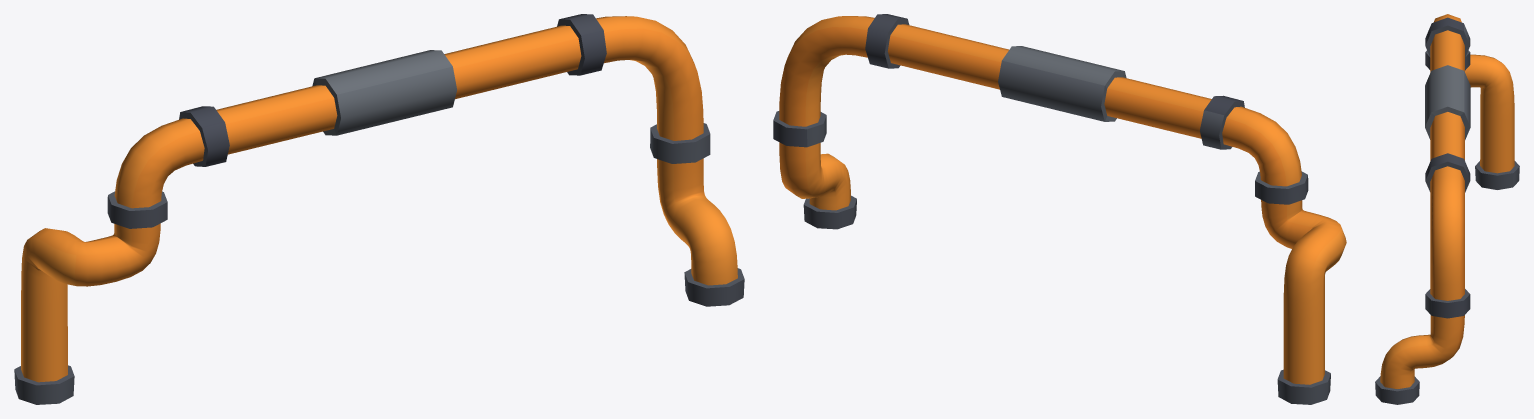
The model's file is SM_Pipe_1.fbx.
3 renders of one model, left to right at view 1: azimuth 30°, elevation 25°; view 2: azimuth 150°, elevation 25°; view 3: azimuth 270°, elevation 25°, orthographic. The views are drawn at different scales.
Parts seen in each view (by area): view 1: SM_Pipe_1; view 2: SM_Pipe_1; view 3: SM_Pipe_1.
Part boxes in pixels (<box>): SM_Pipe_1: <box>14,14,744,404</box>; SM_Pipe_1: <box>773,14,1346,404</box>; SM_Pipe_1: <box>1375,14,1519,404</box>.
Bounding box in the file's own units: 736 × 299 × 192.
